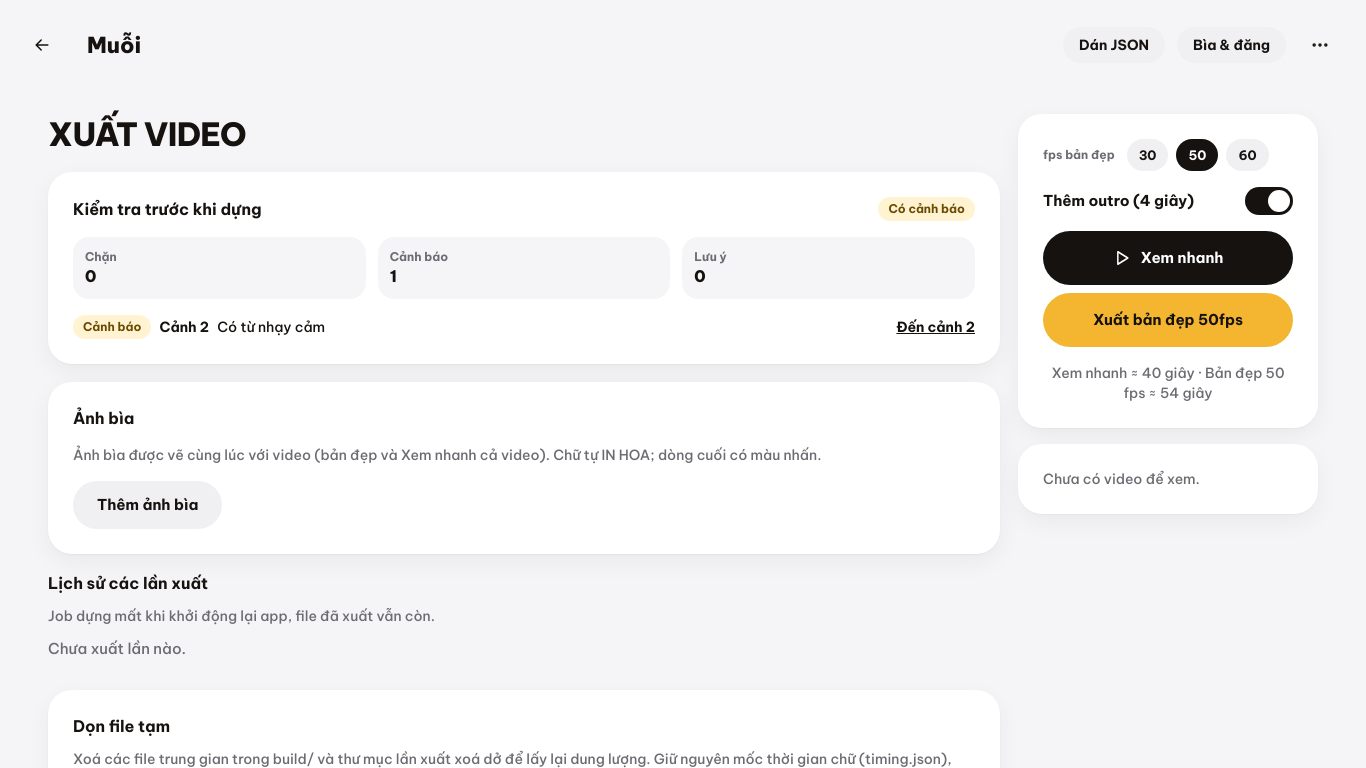
Test: Xuất video: Kiểm tra › says Có cảnh báo, and each issue links to its scene
Expected: the text "Có cảnh báo" is shown, [878,197,975,221]
What coordinates should you click on to do the following:
click the link "Đến cảnh 2"
I would click on:
 (936, 327)
Its box is [896,317,975,337].
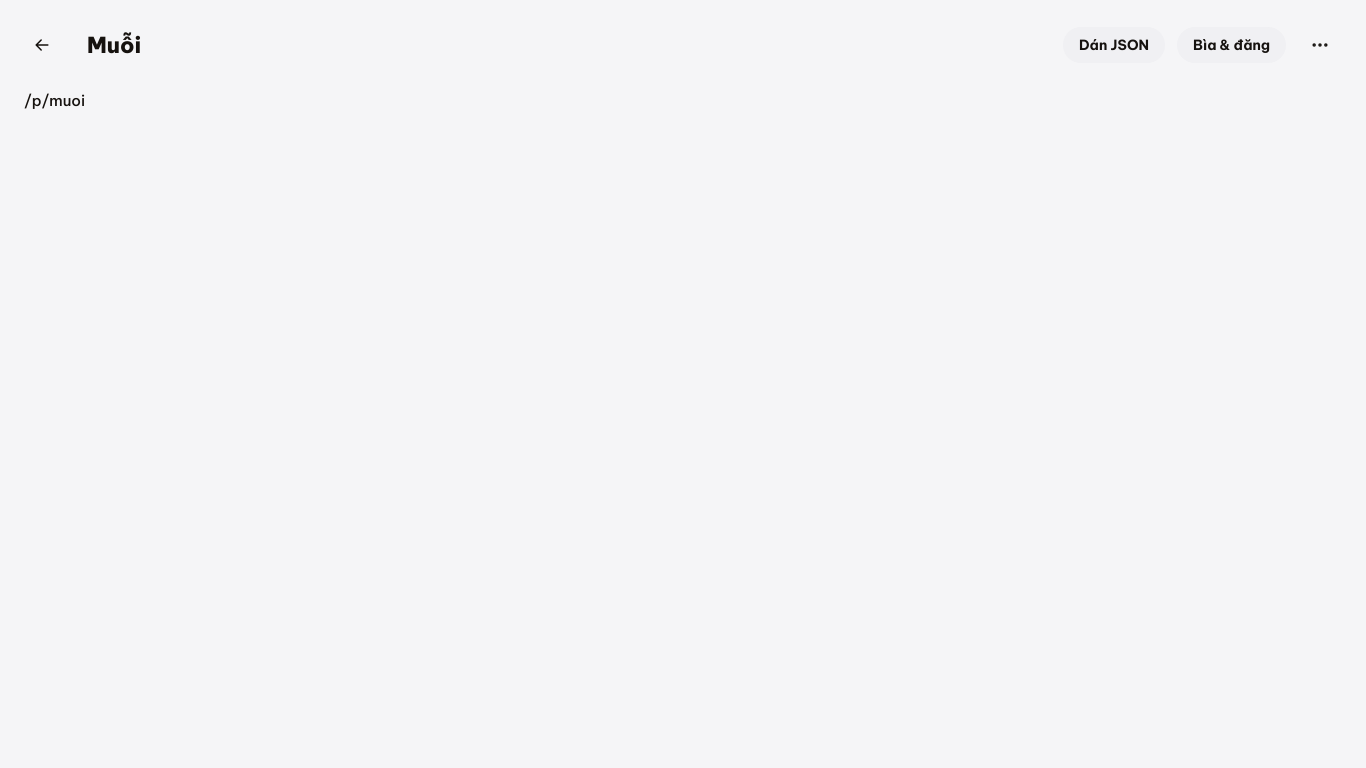
Expected: the text with test id "where" reads "/p/muoi", [24,91,85,110]
